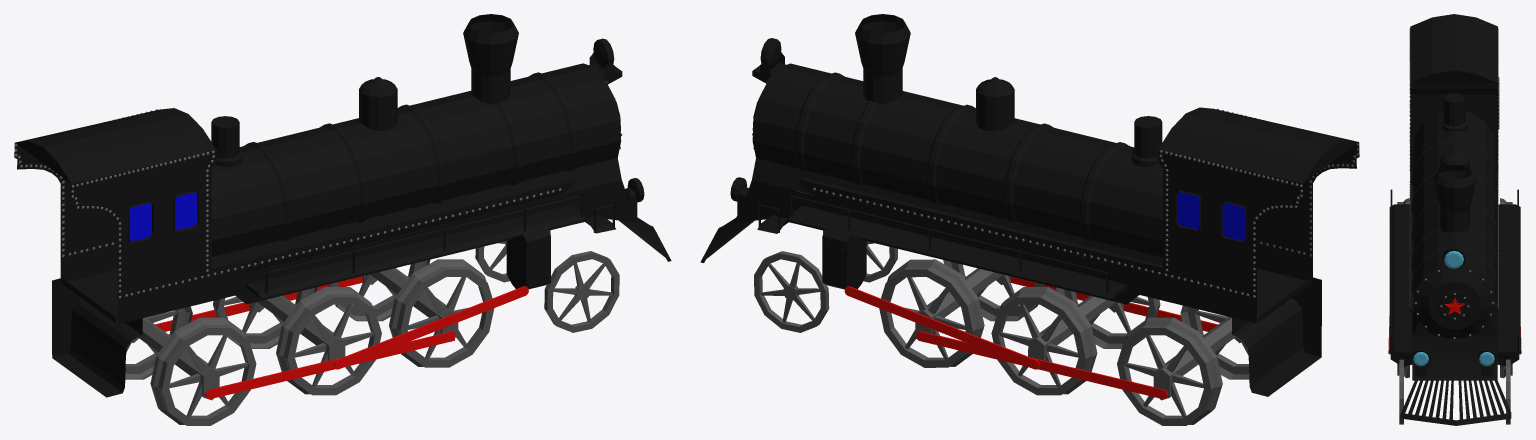
The model's file is train.fbx.
The picture shows the model from 3 angles, left to right: view 1: azimuth 30°, elevation 25°; view 2: azimuth 150°, elevation 25°; view 3: azimuth 270°, elevation 25°; orthographic projection. The views are drawn at different scales.
Visible parts, largest first — view 1: Plane.011, Plane.004, Plane.012, Plane.013, Plane.014, Plane.001, Cube.003, Cube.004, Plane.008, Plane.002, Circle.004, Cube.002; view 2: Plane.011, Plane.004, Plane.012, Plane.013, Plane.007, Plane.001, Cube.002, Cube.001, Plane.008, Plane.002, Circle.004, Cube.003; view 3: Plane.011, Plane.008, Circle.004, Plane.006, Plane.001, Plane.014, Plane.007, Plane.013, Plane.005.
Boxes of the visible parts, x1=… form: Plane.011: x1=14, y1=14, x2=671, y2=397; Plane.004: x1=125, y1=306, x2=256, y2=425; Plane.012: x1=213, y1=287, x2=381, y2=395; Plane.013: x1=328, y1=259, x2=494, y2=367; Plane.014: x1=544, y1=251, x2=619, y2=332; Plane.001: x1=506, y1=229, x2=550, y2=289; Cube.003: x1=205, y1=331, x2=454, y2=398; Cube.004: x1=333, y1=286, x2=528, y2=369; Plane.008: x1=14, y1=81, x2=622, y2=298; Plane.002: x1=129, y1=192, x2=197, y2=241; Circle.004: x1=264, y1=194, x2=615, y2=295; Cube.002: x1=155, y1=276, x2=362, y2=331; Plane.011: x1=700, y1=14, x2=1359, y2=396; Plane.004: x1=1117, y1=305, x2=1249, y2=425; Plane.012: x1=991, y1=287, x2=1160, y2=395; Plane.013: x1=879, y1=259, x2=1044, y2=367; Plane.007: x1=754, y1=251, x2=829, y2=332; Plane.001: x1=822, y1=229, x2=866, y2=289; Cube.002: x1=916, y1=331, x2=1167, y2=398; Cube.001: x1=844, y1=286, x2=1039, y2=369; Plane.008: x1=752, y1=81, x2=1359, y2=297; Plane.002: x1=1177, y1=192, x2=1245, y2=240; Circle.004: x1=758, y1=194, x2=1108, y2=295; Cube.003: x1=1010, y1=276, x2=1217, y2=331; Plane.011: x1=1389, y1=14, x2=1520, y2=425; Plane.008: x1=1409, y1=28, x2=1498, y2=339; Circle.004: x1=1390, y1=189, x2=1518, y2=352; Plane.006: x1=1413, y1=251, x2=1494, y2=365; Plane.001: x1=1390, y1=313, x2=1519, y2=366; Plane.014: x1=1399, y1=359, x2=1403, y2=424; Plane.007: x1=1506, y1=359, x2=1510, y2=424; Plane.013: x1=1397, y1=364, x2=1512, y2=378; Plane.005: x1=1445, y1=297, x2=1465, y2=314.
Bounding box in the file's own units: 314 × 147 × 76.29.
